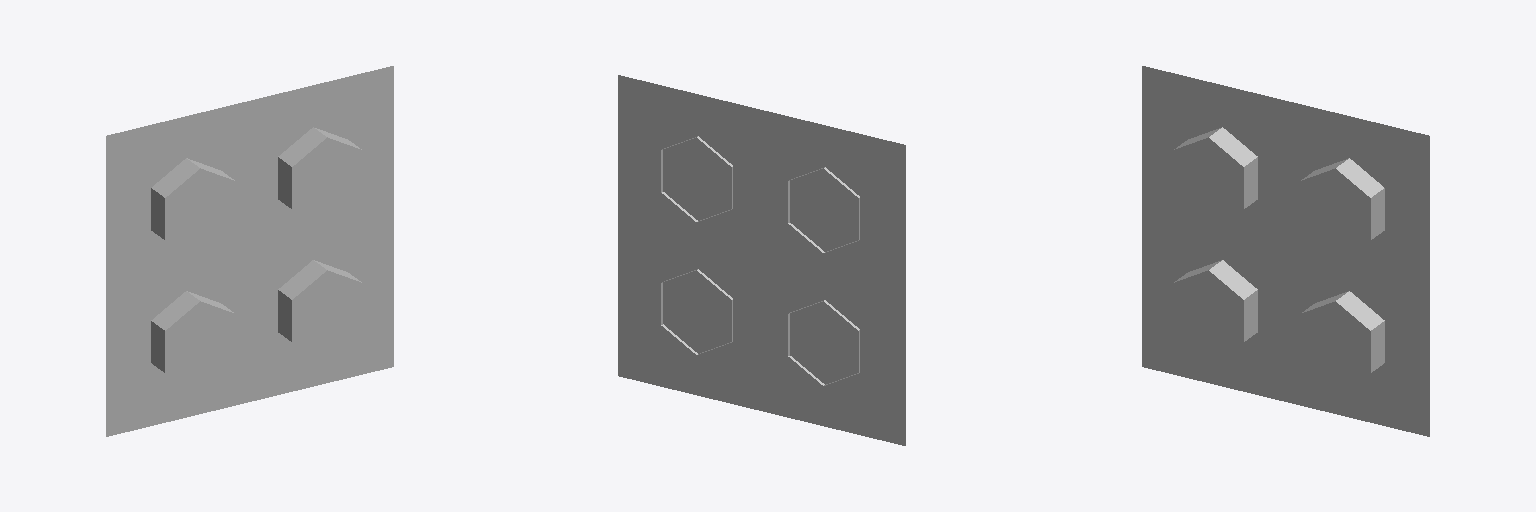
File: mego-brick-face-4.obj
The picture shows the model from 3 angles: view 1: azimuth 30°, elevation 25°; view 2: azimuth 150°, elevation 25°; view 3: azimuth 330°, elevation 25°; orthographic projection.
Parts seen in each view (by area): view 1: Cube.016; view 2: Cube.016; view 3: Cube.016.
Boxes of the visible parts, <box> form: Cube.016: <box>106,66,393,436</box>; Cube.016: <box>618,75,905,445</box>; Cube.016: <box>1142,66,1429,436</box>.
Size of the model in its own units: 1 by 1 by 0.0958.